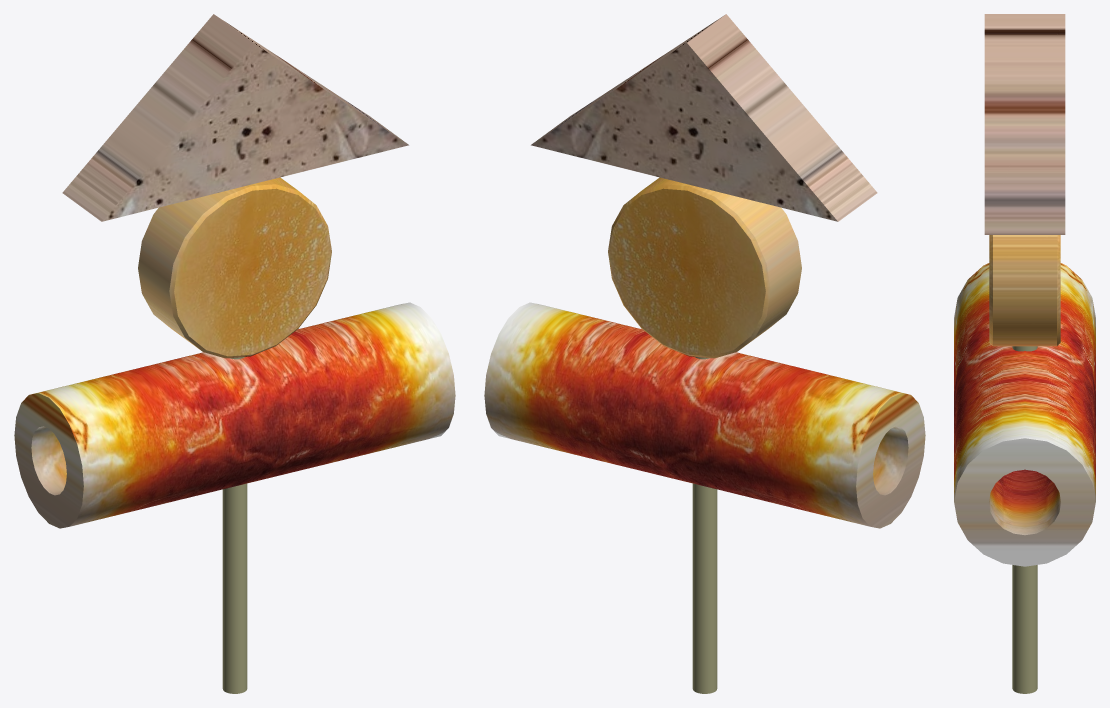
Rendered from Oden.fbx.
3 views of the same model, side by side, from view 1: azimuth 30°, elevation 25°; view 2: azimuth 150°, elevation 25°; view 3: azimuth 270°, elevation 25° (orthographic).
Visible parts, largest first — view 1: pCylinder6; view 2: pCylinder6; view 3: pCylinder6.
Part boxes in pixels (x1,y1,x2,y2): pCylinder6: (14,14,455,693); pCylinder6: (484,14,925,693); pCylinder6: (954,14,1095,693).
Bounding box in the file's own units: 4.57 × 7.76 × 1.48.
